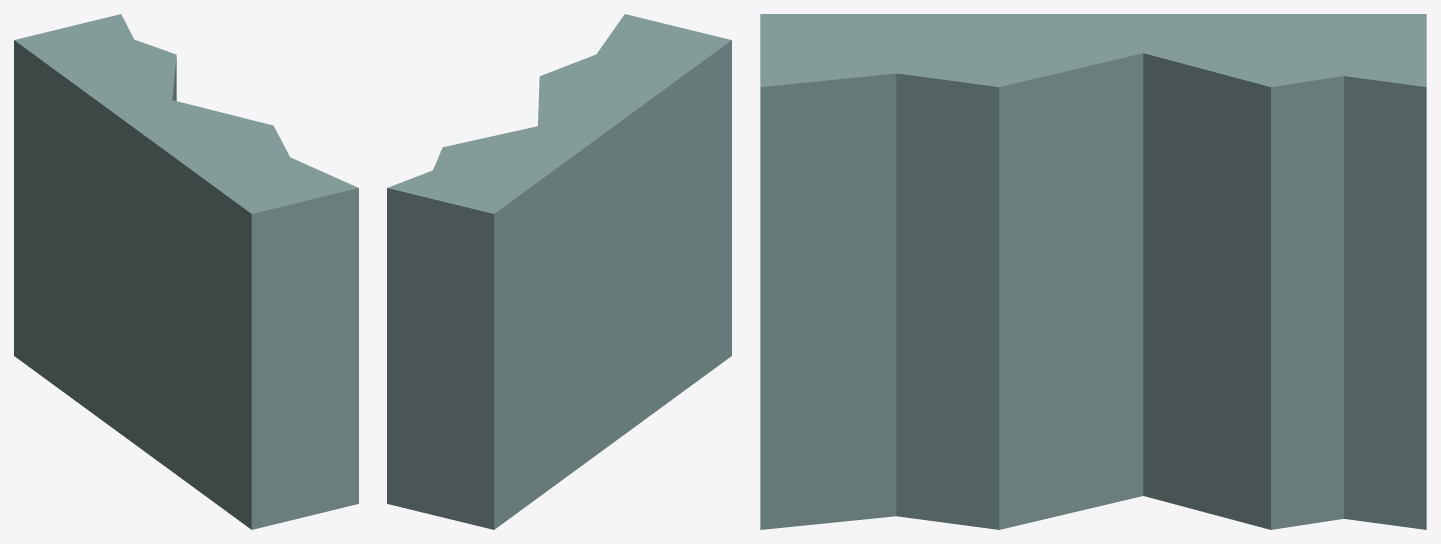
File: naturePack_097.fbx
3 views of the same model, side by side, from view 1: azimuth 30°, elevation 25°; view 2: azimuth 150°, elevation 25°; view 3: azimuth 270°, elevation 25° (orthographic). The views are drawn at different scales.
Parts seen in each view (by area): view 1: naturePack_097; view 2: naturePack_097; view 3: naturePack_097.
Part boxes in pixels (x1,y1,x2,y2): naturePack_097: [14, 14, 358, 529]; naturePack_097: [387, 14, 731, 529]; naturePack_097: [760, 14, 1426, 529].
Size of the model in its own units: 78 by 220 by 300.
